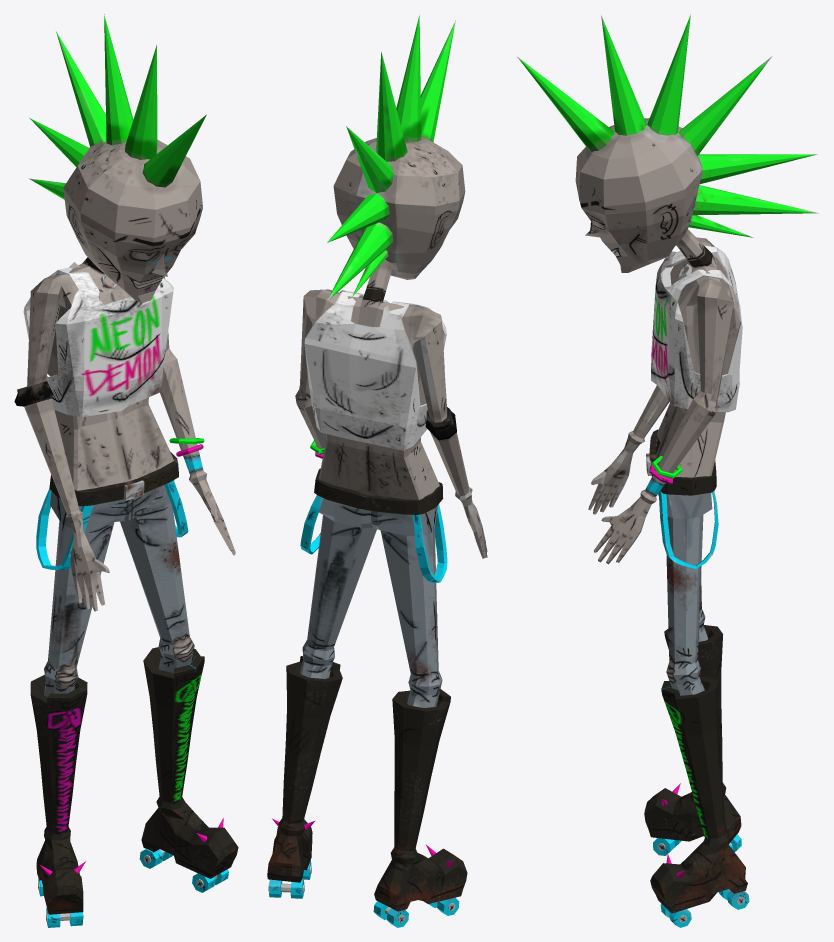
The model's file is punkAnimation_000032.obj.
The picture shows the model from 3 angles, left to right: view 1: azimuth 30°, elevation 25°; view 2: azimuth 150°, elevation 25°; view 3: azimuth 270°, elevation 25°; orthographic projection. The views are drawn at different scales.
Parts seen in each view (by area): view 1: Cube.004_Cube.003; view 2: Cube.004_Cube.003; view 3: Cube.004_Cube.003.
Boxes of the visible parts, x1,y1,x2,y2 form: Cube.004_Cube.003: (14, 14, 238, 927); Cube.004_Cube.003: (267, 15, 487, 927); Cube.004_Cube.003: (517, 14, 818, 927).
Bounding box in the file's own units: 1.8 × 7.53 × 2.4.
